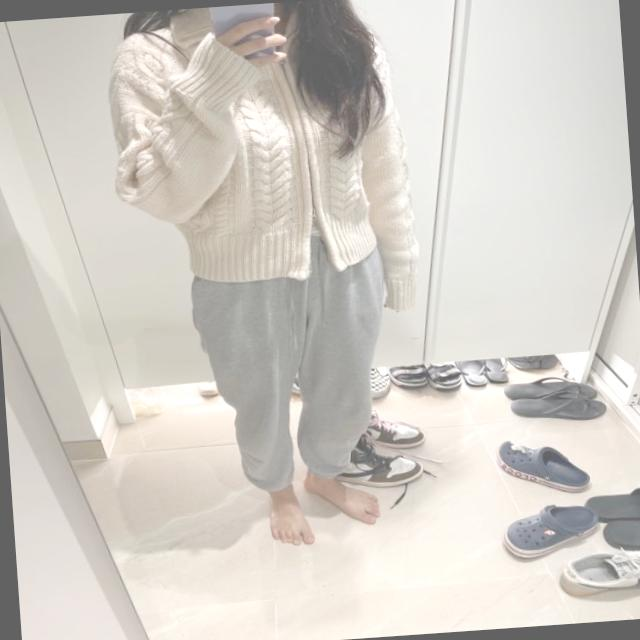cardigan: (108, 1, 422, 330)
trainingpants: (198, 230, 399, 494)
